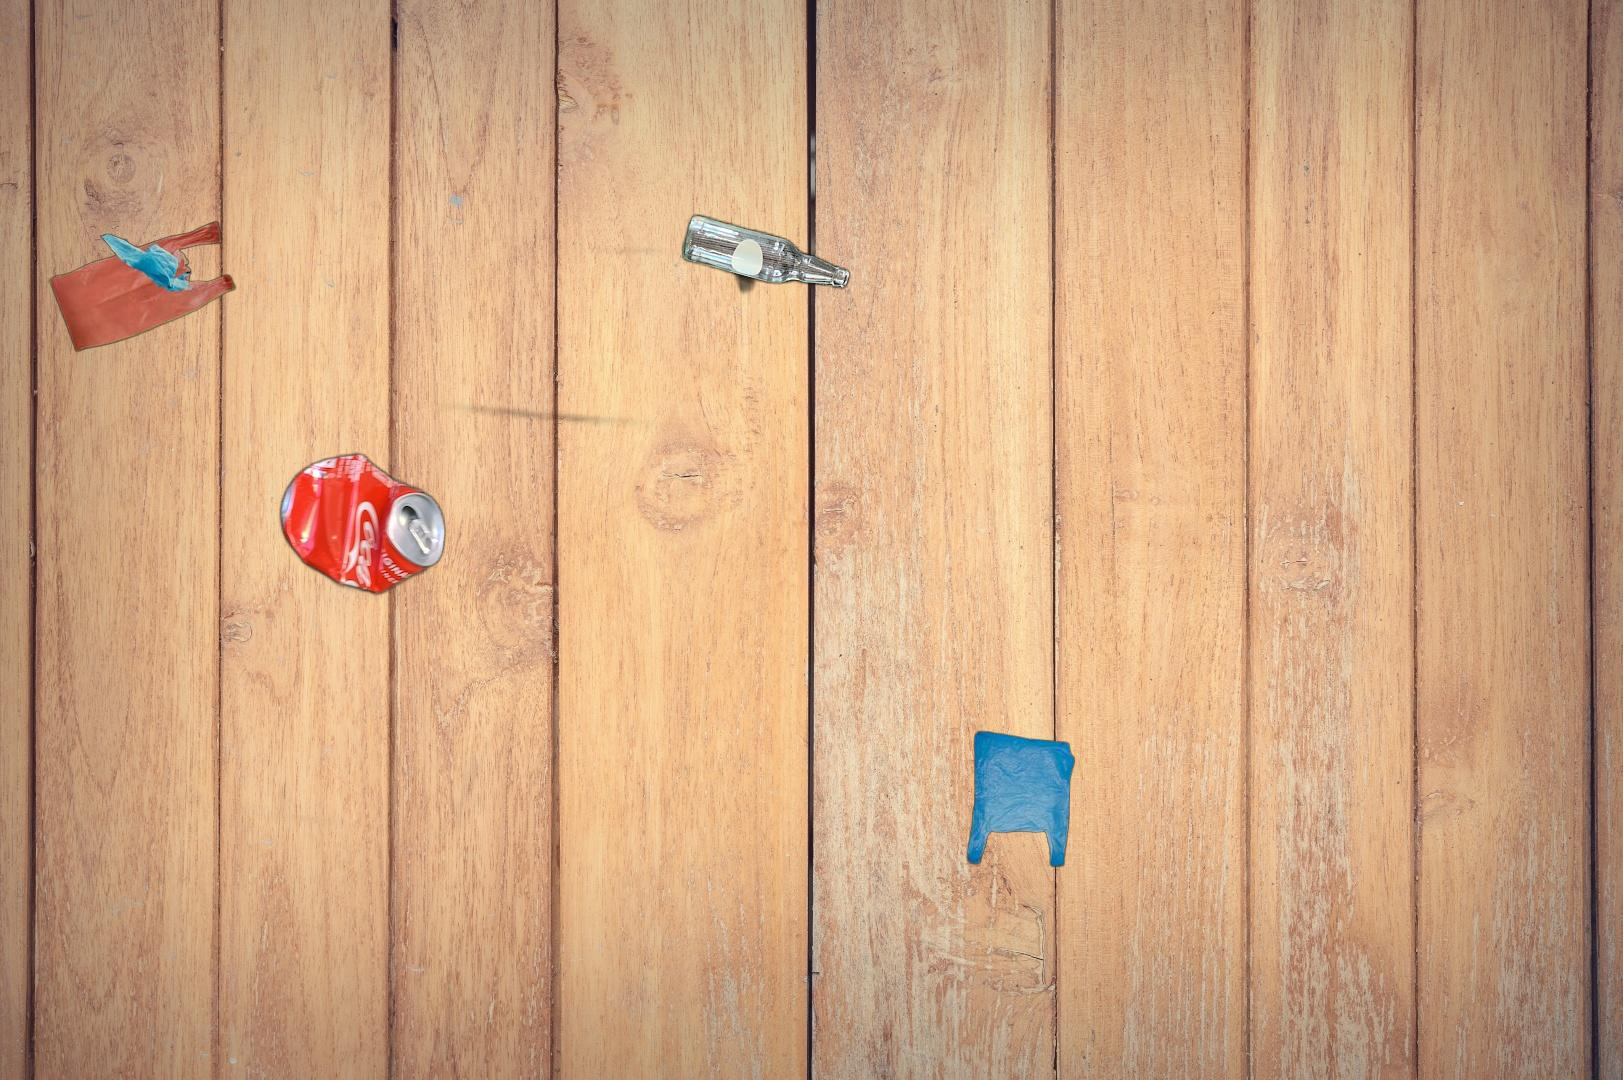glass: (677, 209, 975, 648)
metal-cans: (180, 237, 690, 920)
plastic-bag: (45, 219, 237, 354), (966, 728, 1078, 870)
